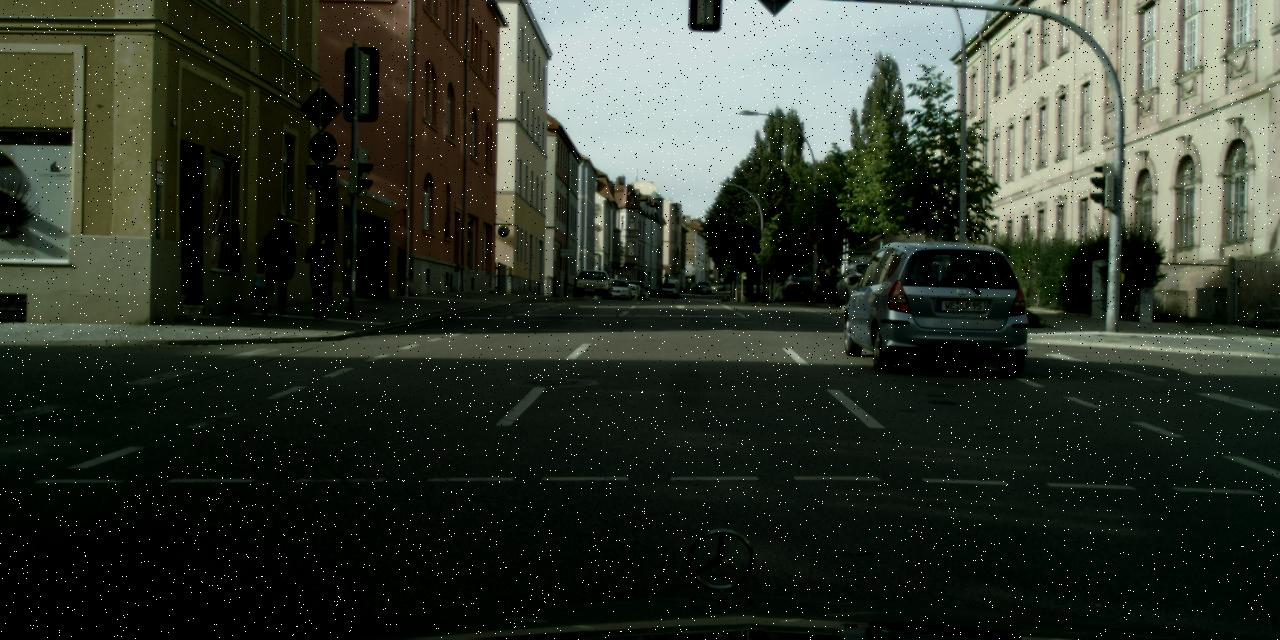ped: (260, 220, 298, 314), (302, 232, 338, 316)
